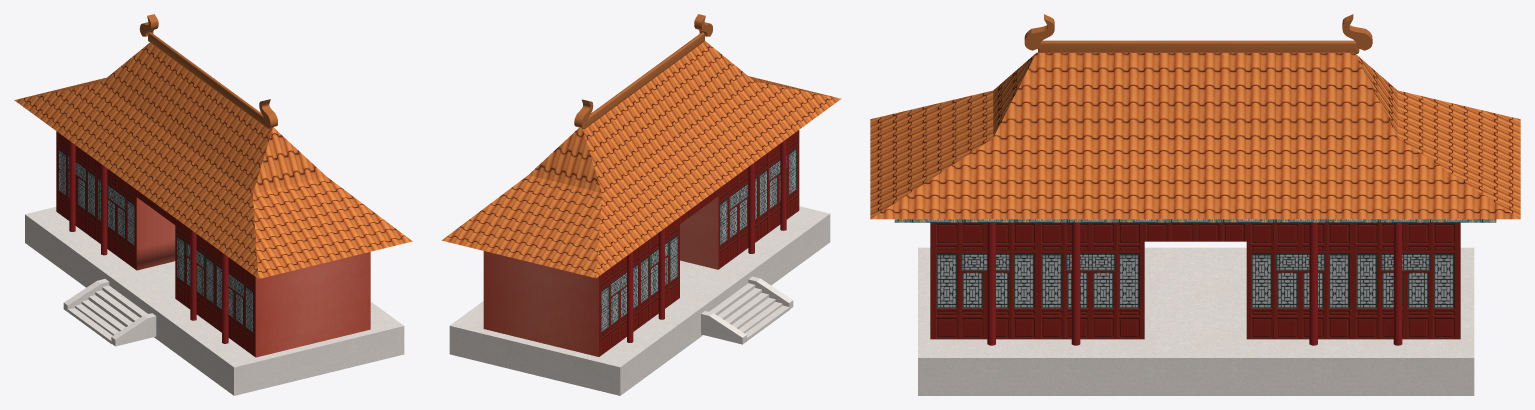
The model's file is dacheng.FBX.
The picture shows the model from 3 angles, left to right: view 1: azimuth 30°, elevation 25°; view 2: azimuth 150°, elevation 25°; view 3: azimuth 270°, elevation 25°; orthographic projection. The views are drawn at different scales.
Parts seen in each view (by area): view 1: 12669; view 2: 12669; view 3: 12669.
Part boxes in pixels (x1=…): 12669: x1=14, y1=14, x2=412, y2=395; 12669: x1=441, y1=14, x2=841, y2=395; 12669: x1=870, y1=14, x2=1520, y2=395.
Size of the model in its own units: 214 by 234 by 428.
Materials: 7 (5 with a texture image).
